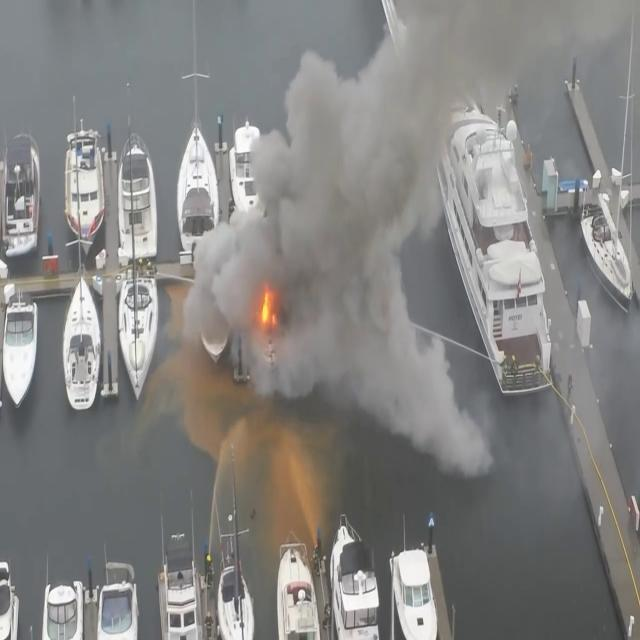Fire: (256, 278, 280, 334)
Smoke: (201, 1, 485, 472)
